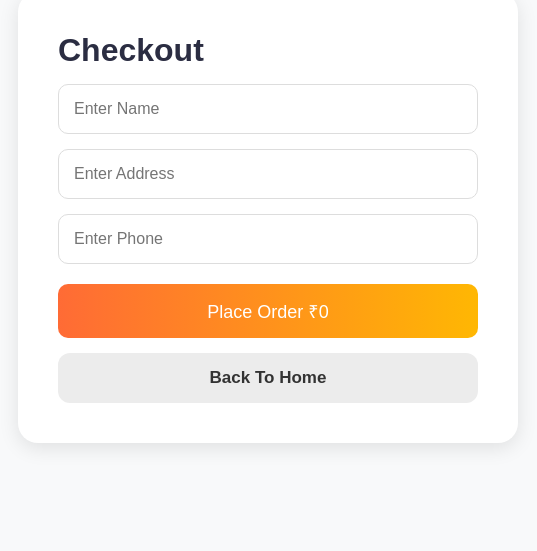
Test: Checkout Validation › shows validation errors
The width and height of the screenshot is (537, 551).
Click the button "Place Order ₹0". click: {"x": 268, "y": 311}
box: [58,284,478,338]
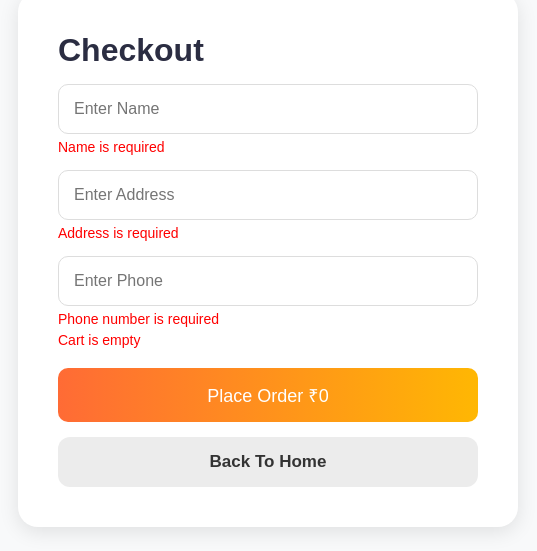
Expected: the text "Name is required" is shown, [58,139,165,155]
Expected: the text "Address is required" is shown, [58,225,179,241]
